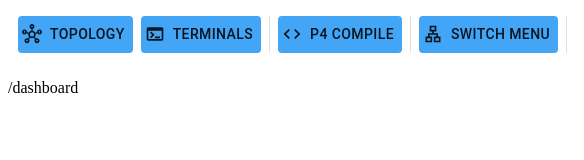
Test case: links to separate topology and terminal pages for the same network
The width and height of the screenshot is (584, 160).
Click the link "Topology".
click(75, 34)  # box [18,16,133,52]
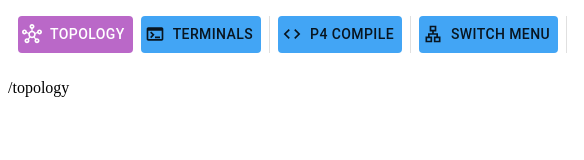
Expected: the text with test id "route" reads "/topology", [8,78,69,96]
Click the link "Terminals".
click(201, 34)  # box [141,16,261,52]
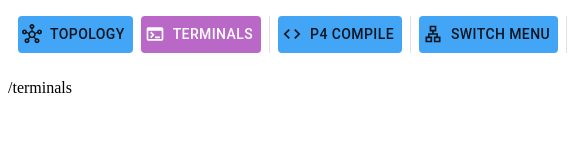
Expected: the text with test id "route" reads "/terminals", [8,78,72,96]
